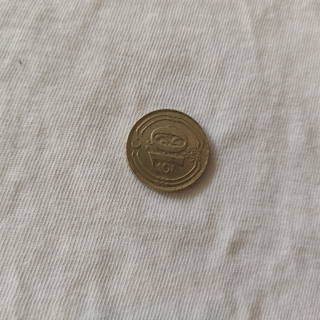10KURUS: (124, 106, 212, 194)
